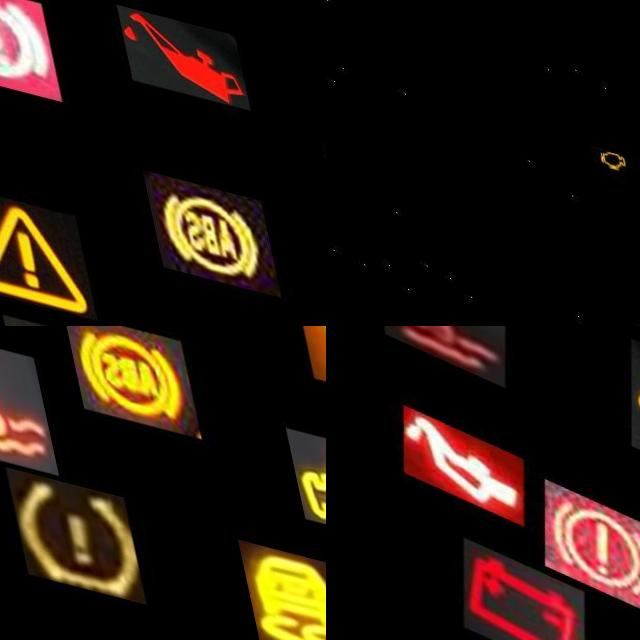Central Warning lamp: (0, 184, 79, 314), (604, 326, 640, 481)
Engine cooling system: (362, 326, 519, 381), (0, 327, 44, 469)
